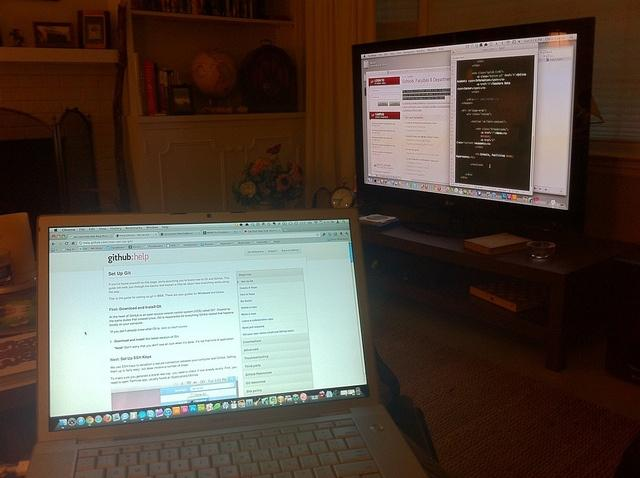AIO PC-Monitor-TV: (349, 14, 597, 239)
